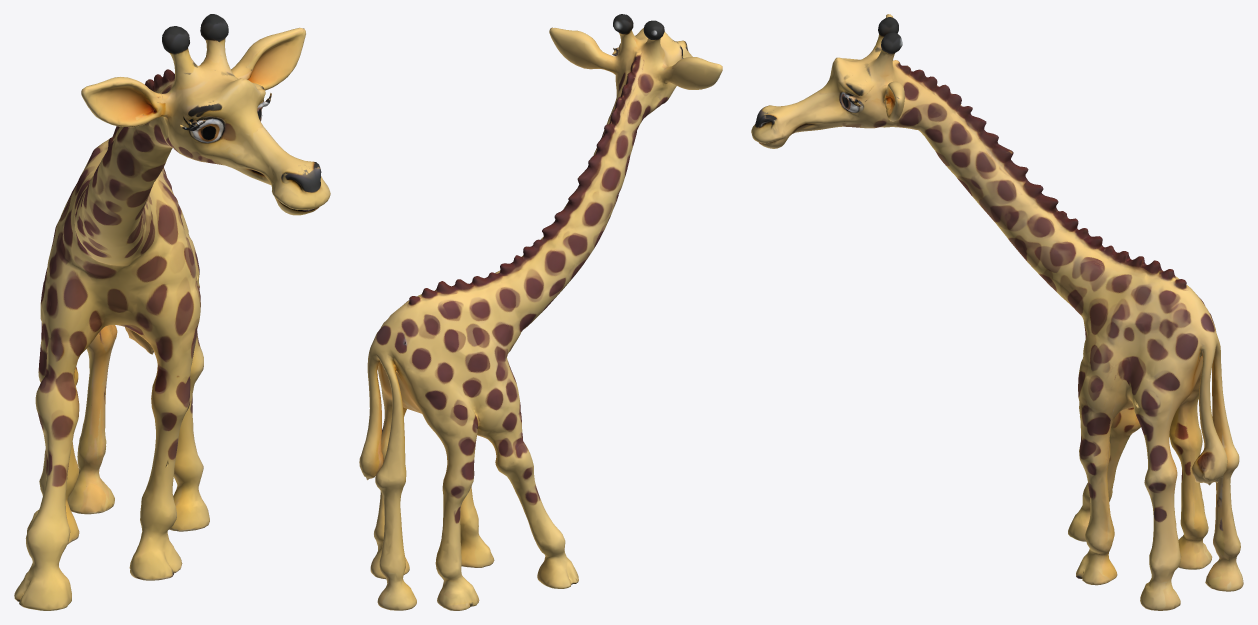
Rendered from Giraffe.glb.
3 views of the same model, side by side, from view 1: azimuth 30°, elevation 25°; view 2: azimuth 150°, elevation 25°; view 3: azimuth 270°, elevation 25° (orthographic). The views are drawn at different scales.
Size of the model in its own units: 0.8998 by 1.92 by 1.65.
Materials: 1 (1 with a texture image).
